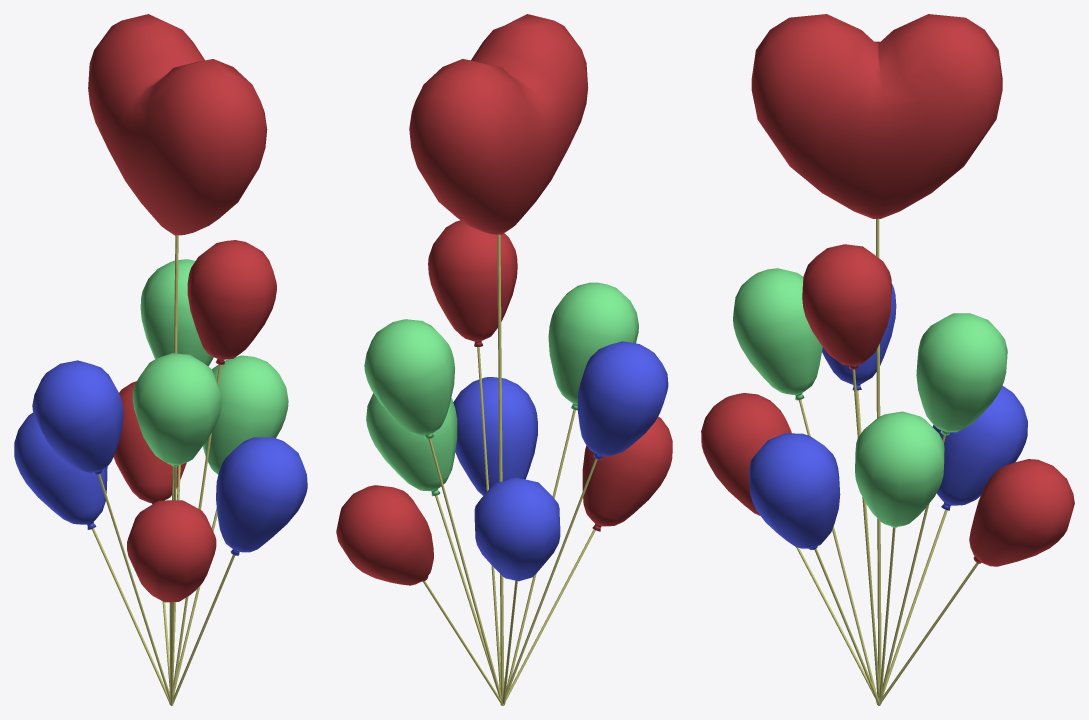
File: baloncici.fbx
The picture shows the model from 3 angles, left to right: view 1: azimuth 30°, elevation 25°; view 2: azimuth 150°, elevation 25°; view 3: azimuth 270°, elevation 25°; orthographic projection. The views are drawn at different scales.
Parts seen in each view (by area): view 1: Balloon; view 2: Balloon; view 3: Balloon.
Part boxes in pixels (x1,y1,x2,y2): Balloon: (14, 14, 307, 705); Balloon: (336, 14, 672, 705); Balloon: (701, 14, 1074, 705).
Bounding box in the file's own units: 235 × 555 × 273.
